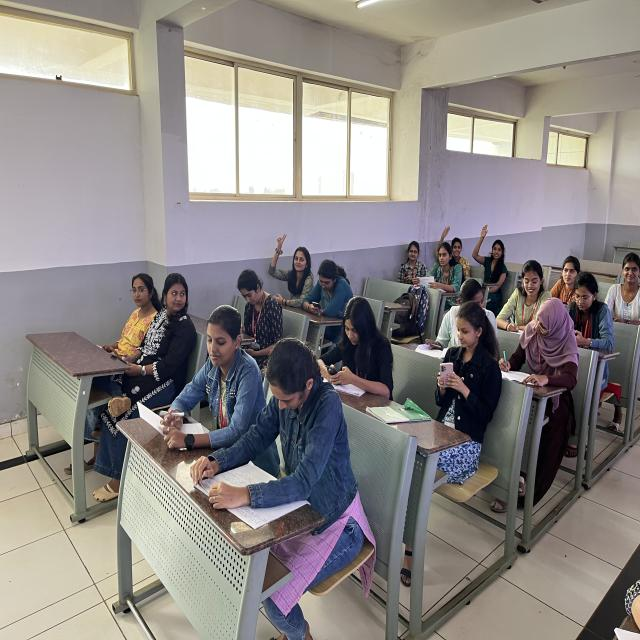Hand Rising: (266, 225, 310, 307), (471, 220, 509, 288)
Reading: (197, 342, 367, 579)
Using Phone: (117, 258, 195, 402), (426, 300, 502, 441), (312, 296, 397, 406), (93, 264, 150, 360), (227, 272, 283, 359), (562, 272, 616, 352), (304, 255, 347, 325)
Writing: (140, 302, 250, 446), (496, 291, 582, 396)
